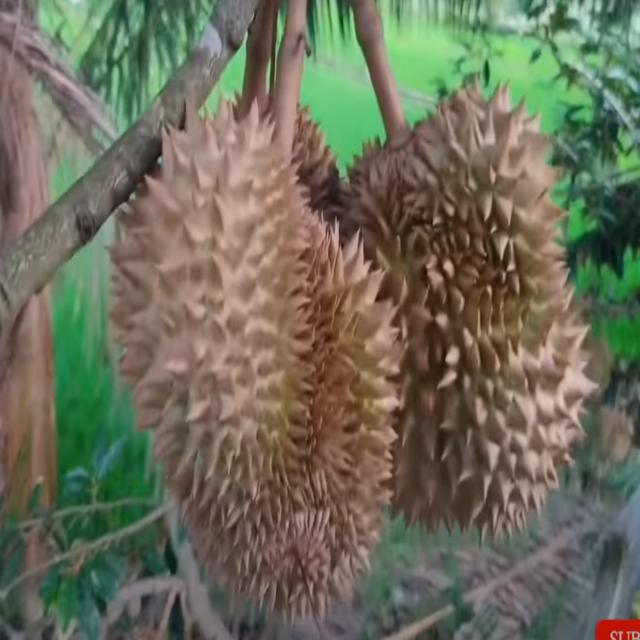mature: (105, 107, 402, 614), (323, 79, 602, 548)
